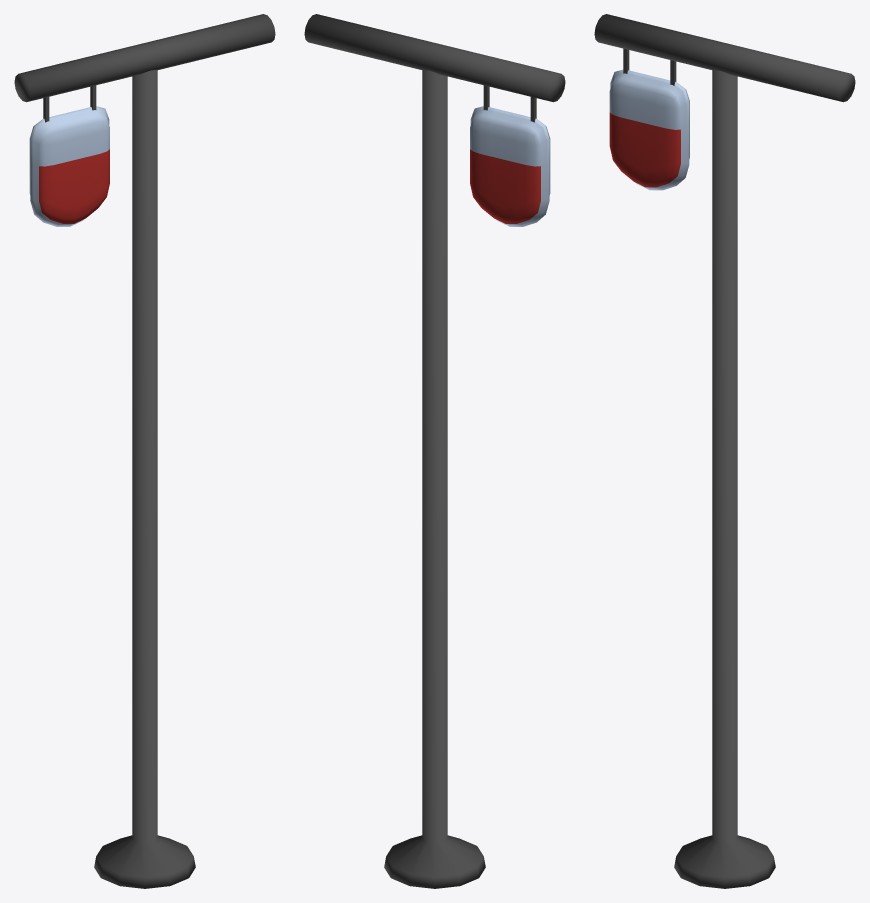
Rendered from IVBag.fbx.
3 views of the same model, side by side, from view 1: azimuth 30°, elevation 25°; view 2: azimuth 150°, elevation 25°; view 3: azimuth 330°, elevation 25° (orthographic).
Parts seen in each view (by area): view 1: IV Bag; view 2: IV Bag; view 3: IV Bag.
Part boxes in pixels (x1,y1,x2,y2): IV Bag: (14,14,275,888); IV Bag: (304,14,565,888); IV Bag: (594,14,855,888).
Size of the model in its own units: 51.15 by 18.41 by 164.
